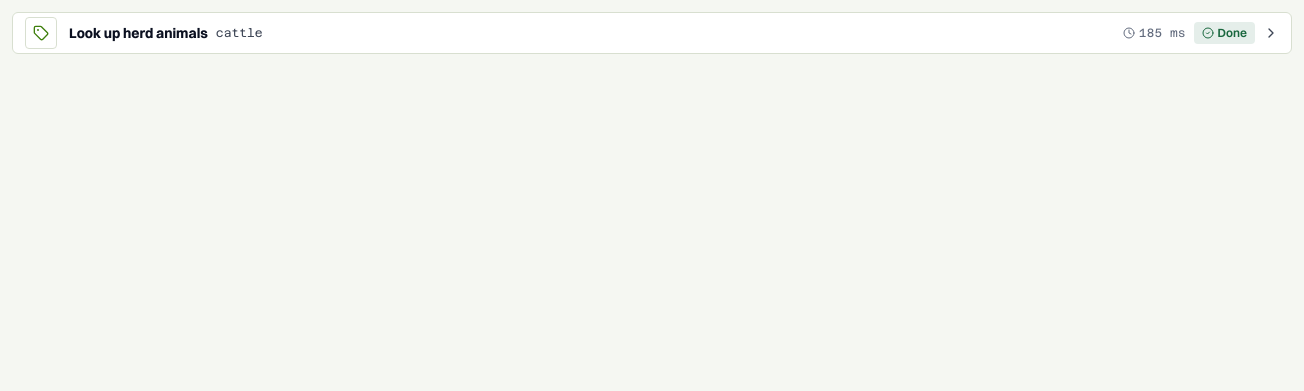
Test: ToolCard states and animal mini-table › renders running, done with animal mini-table, and error states
Later steps or results of the test are not shown.
Expected: the text "Look up herd animals" is shown, [69,24,208,42]
Expected: the element with test id "tool-card-status-call-1" reads "Done", [1218,25,1247,40]
Click the button with test id "tool-card-toggle-call-1" at point(41, 33), box [13,13,1291,53]
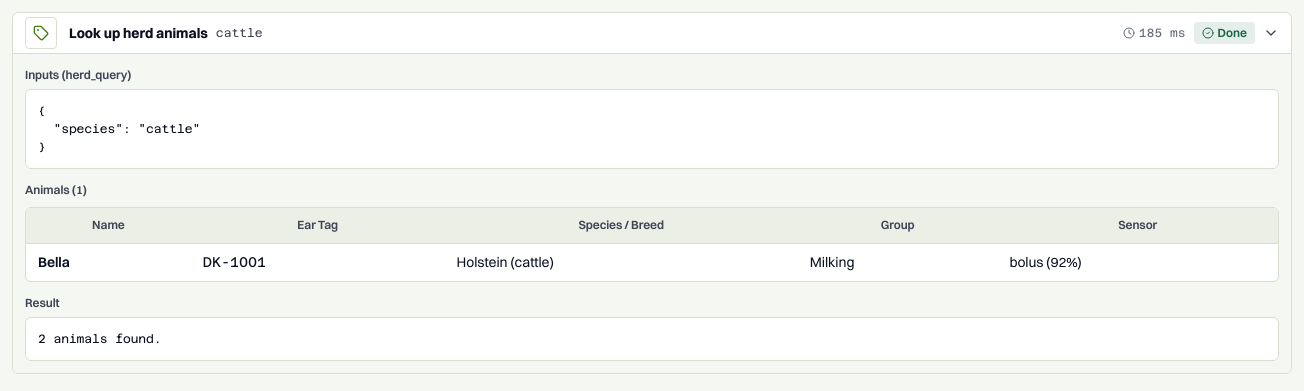
Now the element with test id "tool-card-animal-table-call-1" is shown, box [25,207,1279,282]
Now the text "Bella" is shown, box [26,243,191,282]
Now the text "DK-1001" is shown, box [191,243,445,282]
